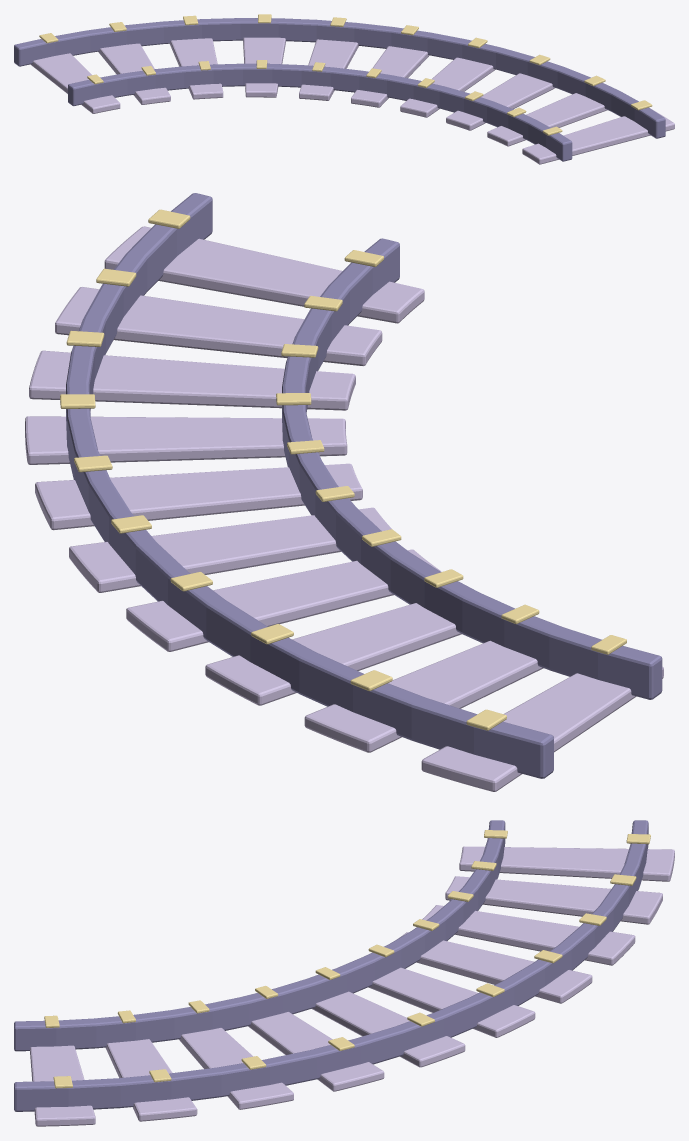
Rendered from track_curve.glb.
3 renders of one model, top to bottom at view 1: azimuth 30°, elevation 25°; view 2: azimuth 150°, elevation 25°; view 3: azimuth 270°, elevation 25°, orthographic. The views are drawn at different scales.
Visible parts, largest first — view 1: track_curve; view 2: track_curve; view 3: track_curve.
Boxes of the visible parts, <box> form: track_curve: <box>14,14,674,164</box>; track_curve: <box>25,193,663,791</box>; track_curve: <box>14,820,674,1126</box>.
Size of the model in its own units: 14.29 by 0.745 by 14.29.
